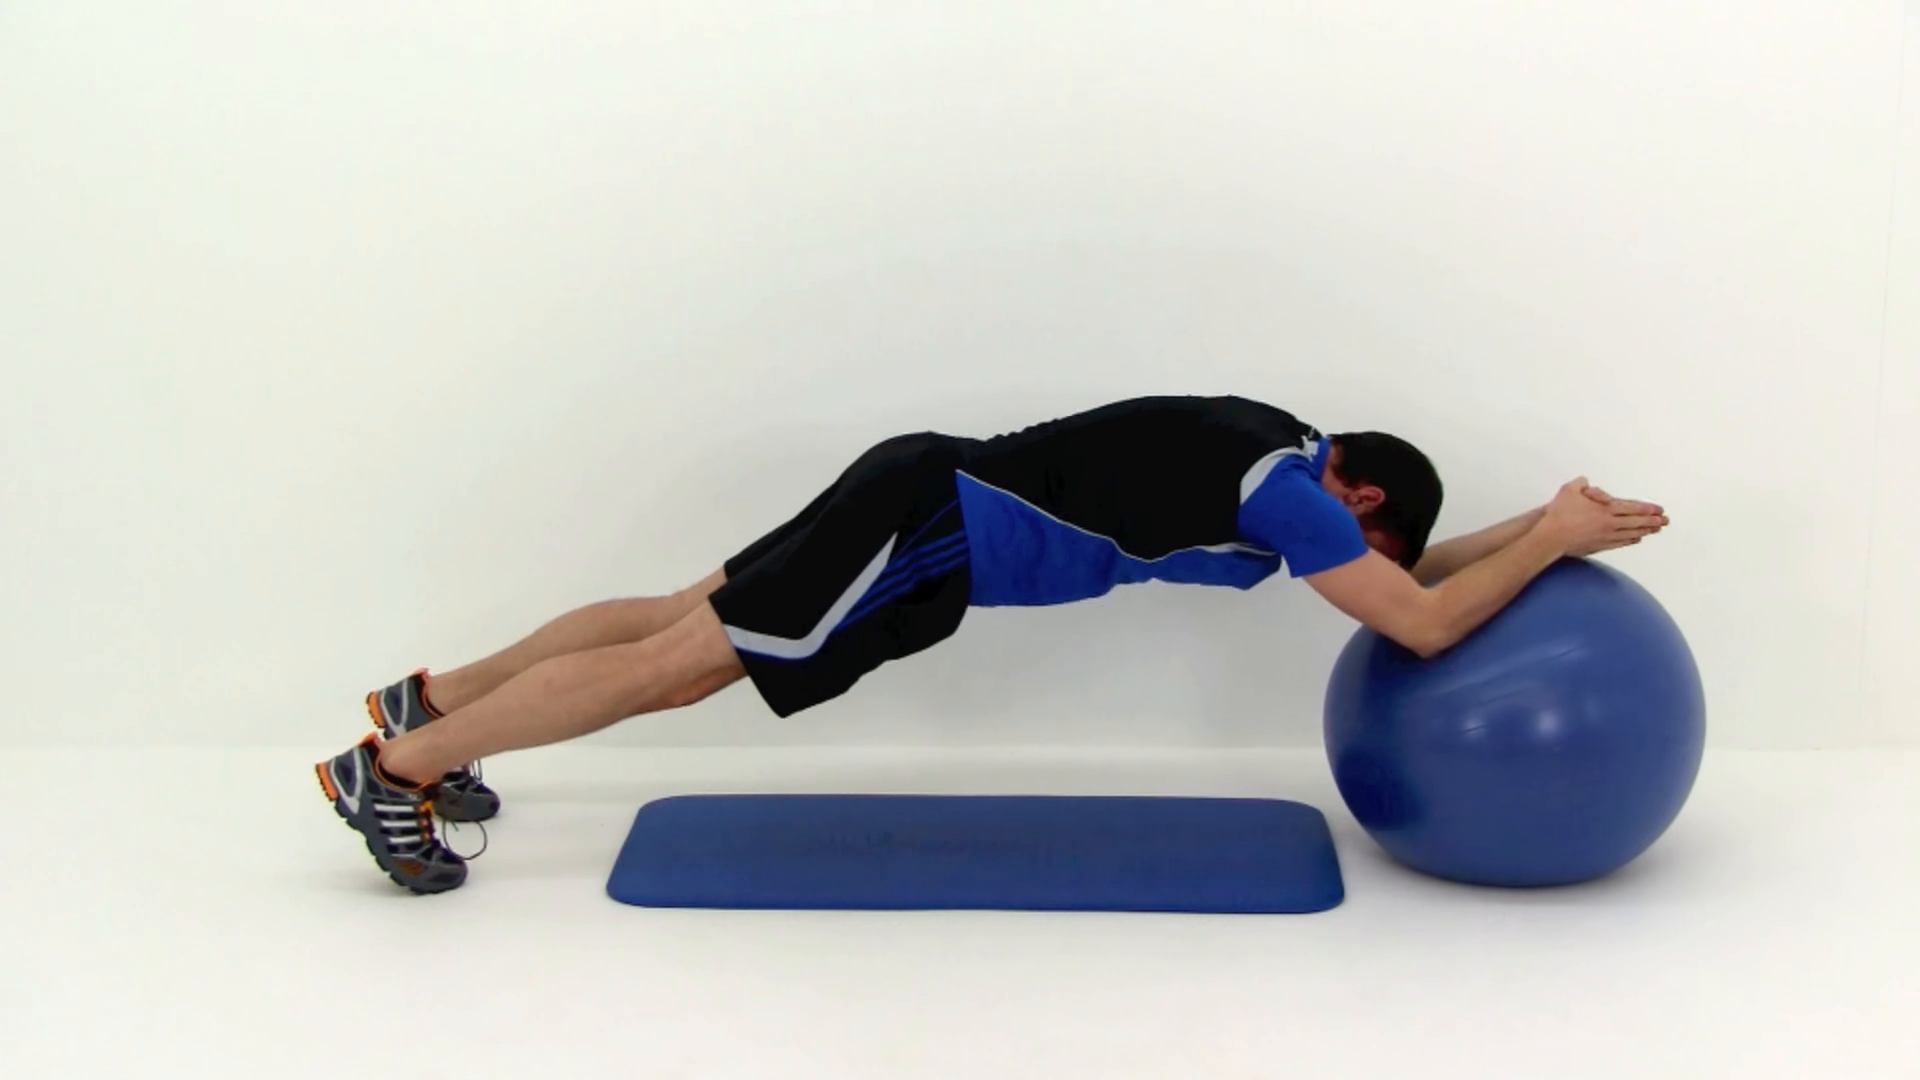yogaball: (1319, 531, 1714, 897)
